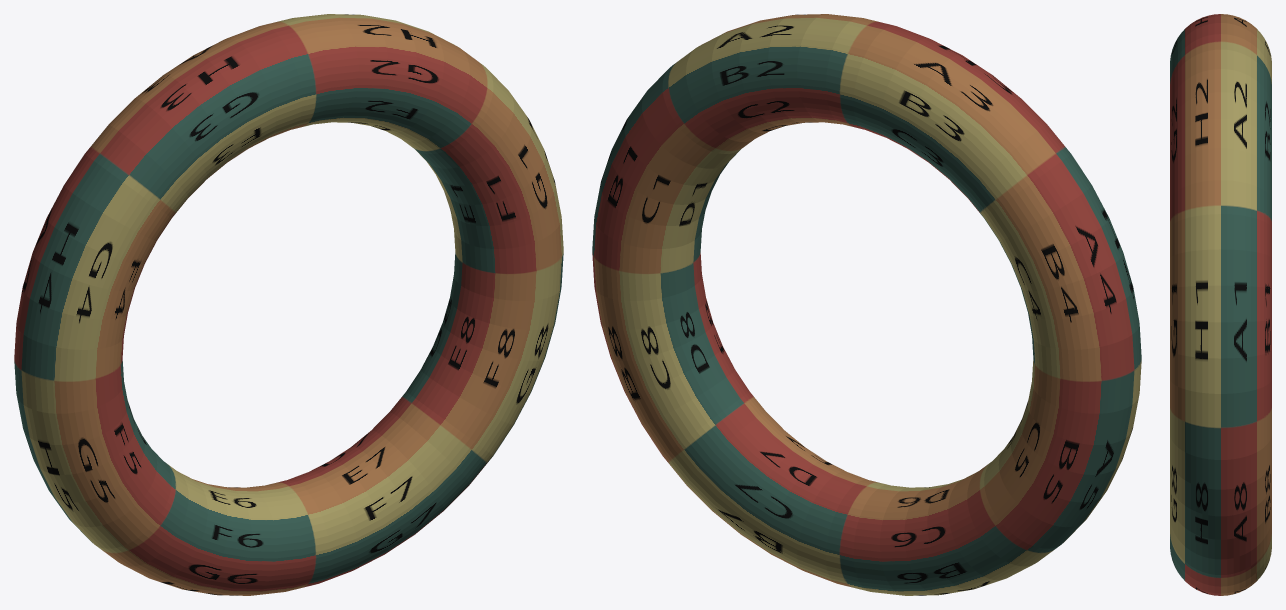
Rendered from texture_torus_R16_r9.glb.
The picture shows the model from 3 angles, left to right: view 1: azimuth 30°, elevation 25°; view 2: azimuth 150°, elevation 25°; view 3: azimuth 270°, elevation 25°; orthographic projection. The views are drawn at different scales.
Visible parts, largest first — view 1: world; view 2: world; view 3: world.
Boxes of the visible parts, x1=… form: world: x1=14, y1=14, x2=563, y2=595; world: x1=592, y1=14, x2=1141, y2=595; world: x1=1170, y1=14, x2=1271, y2=595.
Size of the model in its own units: 25.07 by 25.02 by 4.39.
1 material, 1 textured.
